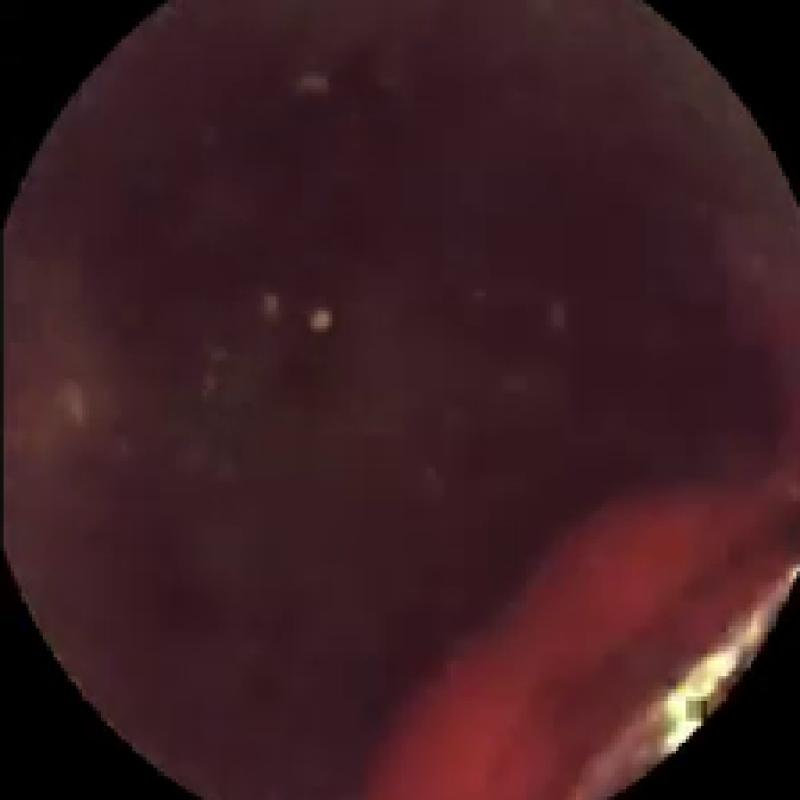bleeding: (368, 486, 775, 796)
